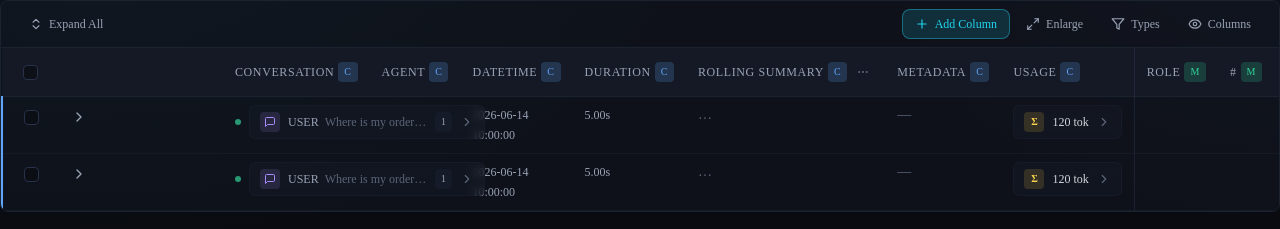
Test case: TraceTable (render safety net) › select-all picks every conversation, and picking one never navigates
The width and height of the screenshot is (1280, 229).
Click the checkbox named "Select \"Where is my order ORD-4471?\"" at (31, 117), box [24, 110, 38, 124]
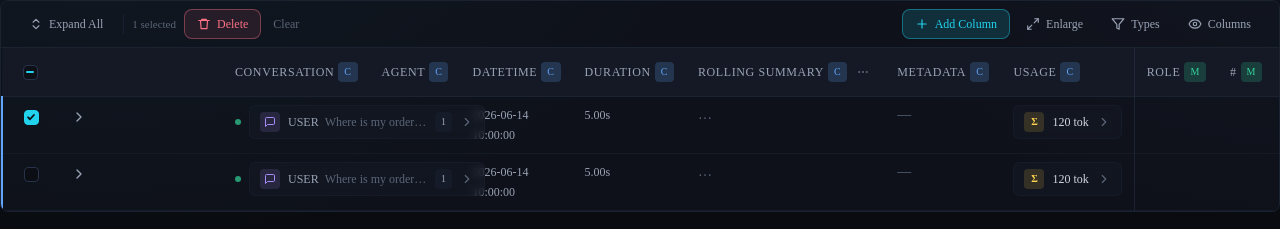
Click the checkbox named "Select all conversations" at (30, 72), box [22, 64, 38, 80]
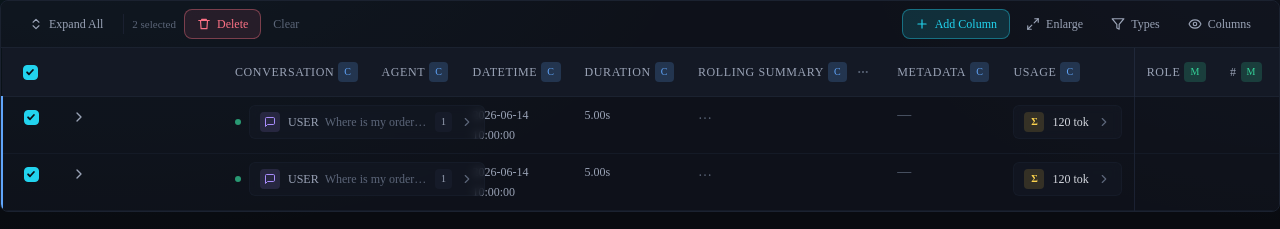
Result: the text "2 selected" is shown at [132, 18, 176, 30]
Click the checkbox named "Clear selection" at (30, 72), box [22, 64, 38, 80]
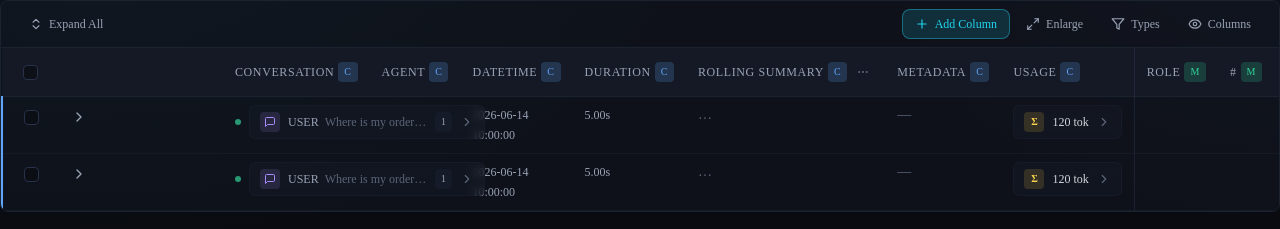
Result: the text "selected" is gone
